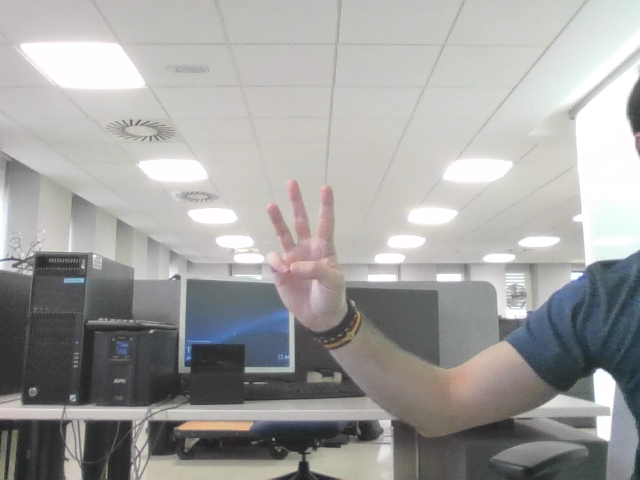3Dedos: (274, 191, 330, 297)
